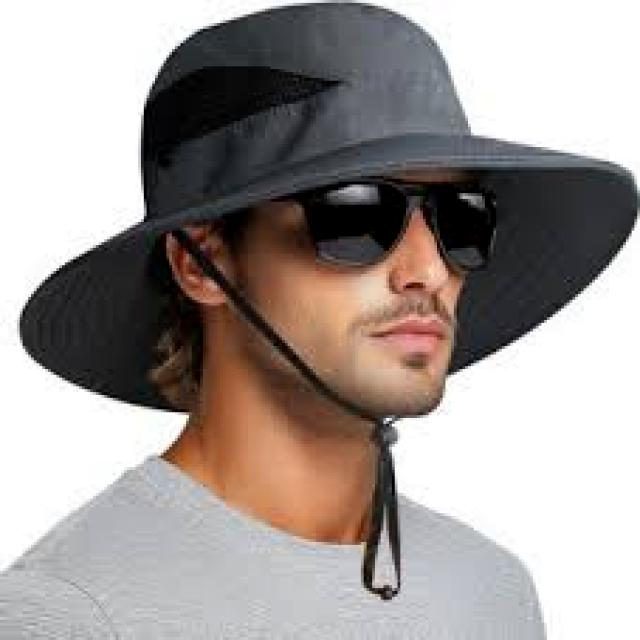hat: (20, 3, 637, 409)
